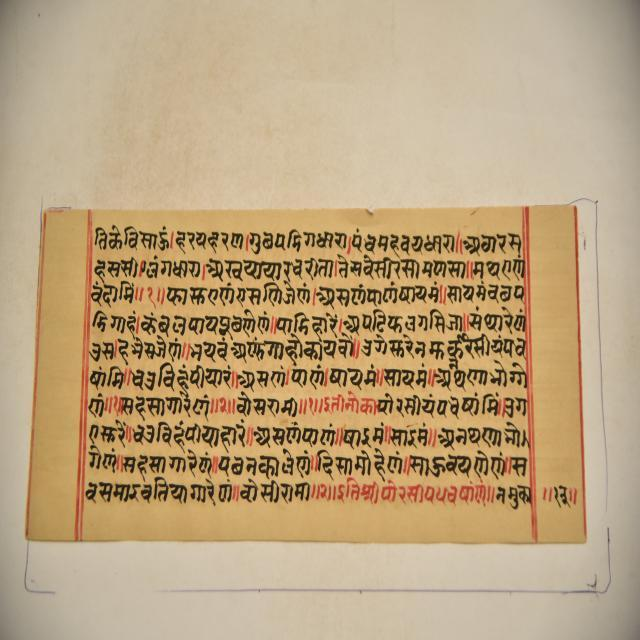text_paragraph: (24, 205, 586, 548)
